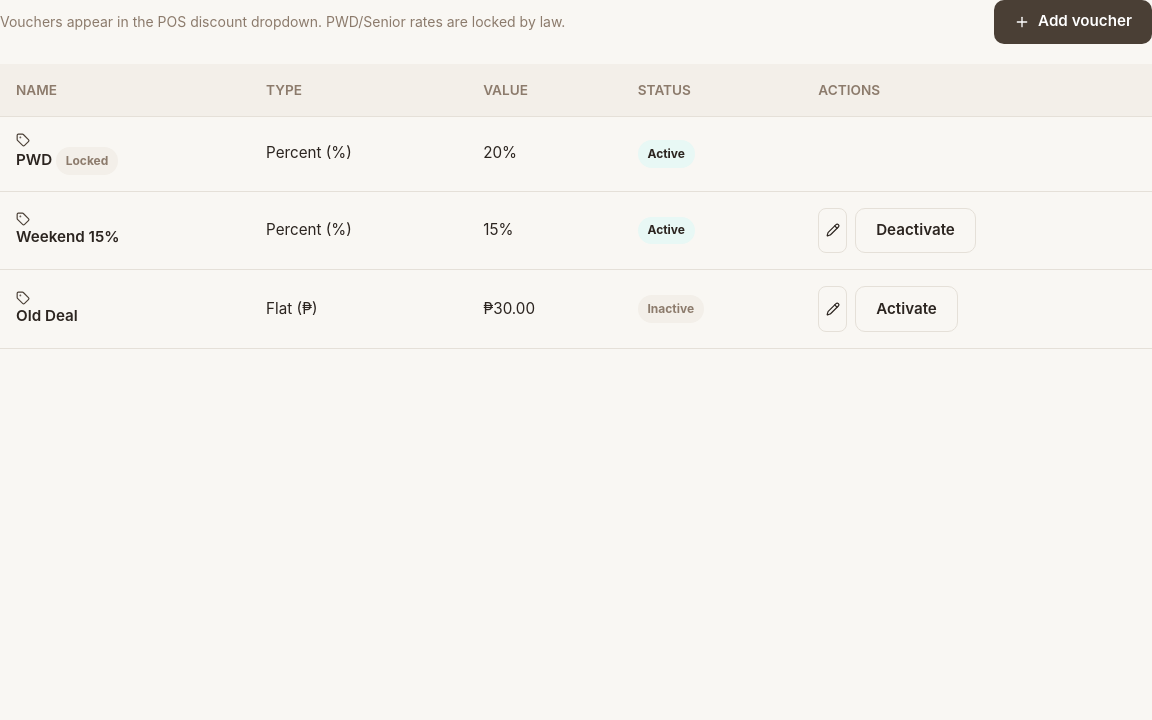
Test: DiscountManager › should surface validation errors from the service
The width and height of the screenshot is (1152, 720).
Click the button with test id "discount-add-btn": click(1073, 22) left=994, top=0, right=1151, bottom=44
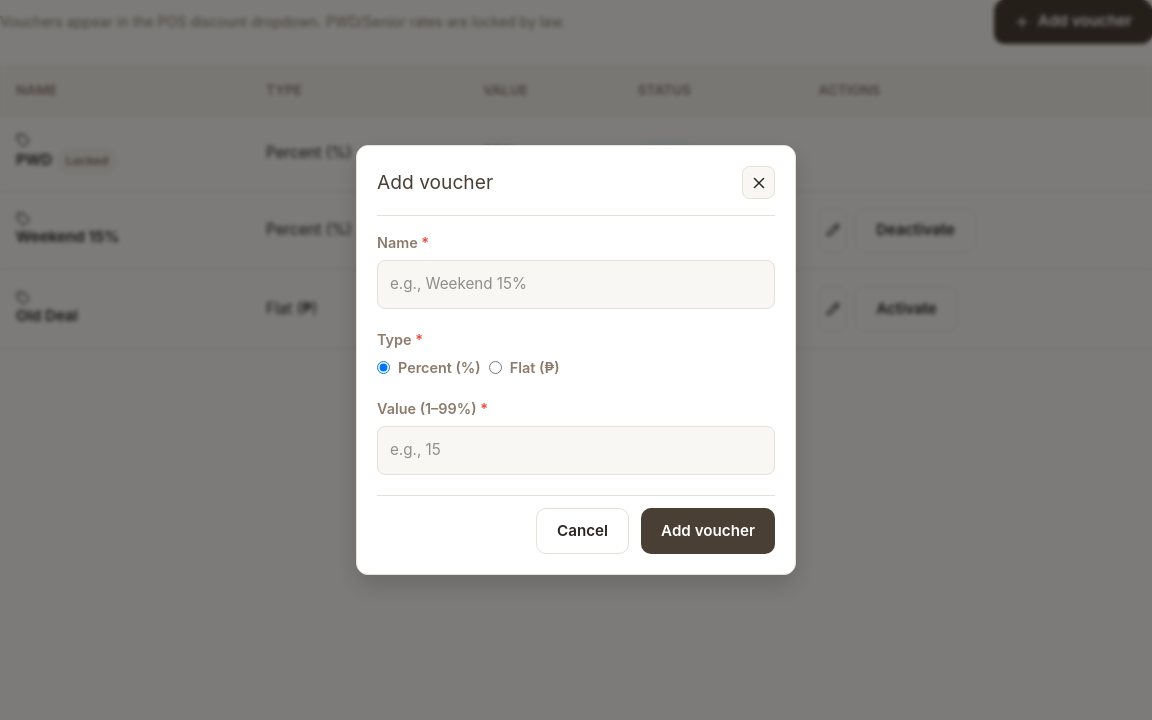
In the field with test id "discount-name-input": (576, 284) left=377, top=260, right=775, bottom=309, type "Bad Deal"
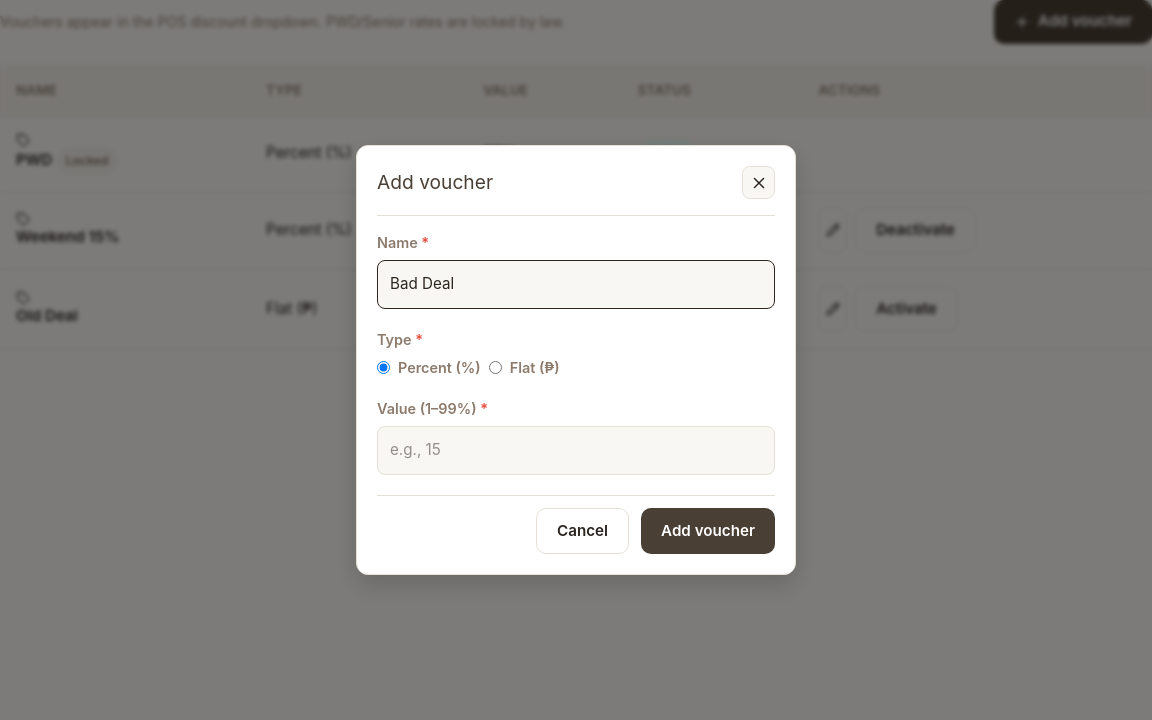
In the number field with test id "discount-value-input": (576, 451) left=377, top=426, right=775, bottom=475, type "150"
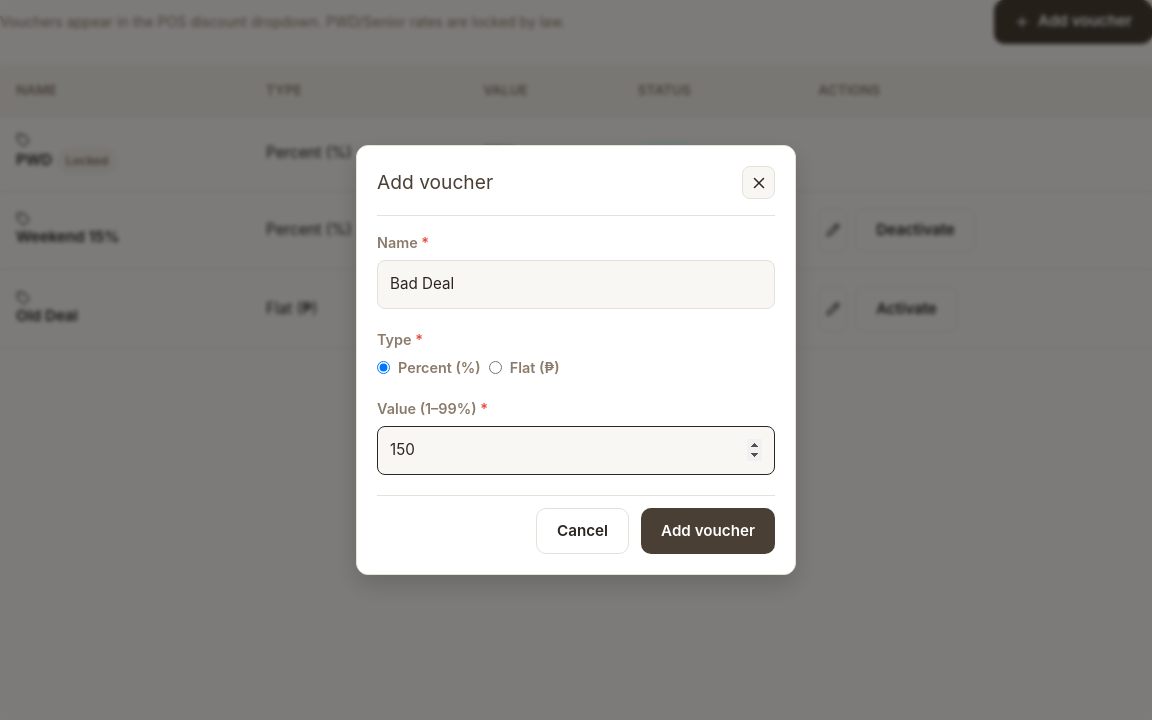
Click the button with test id "discount-save-btn": click(708, 531) left=641, top=508, right=775, bottom=554
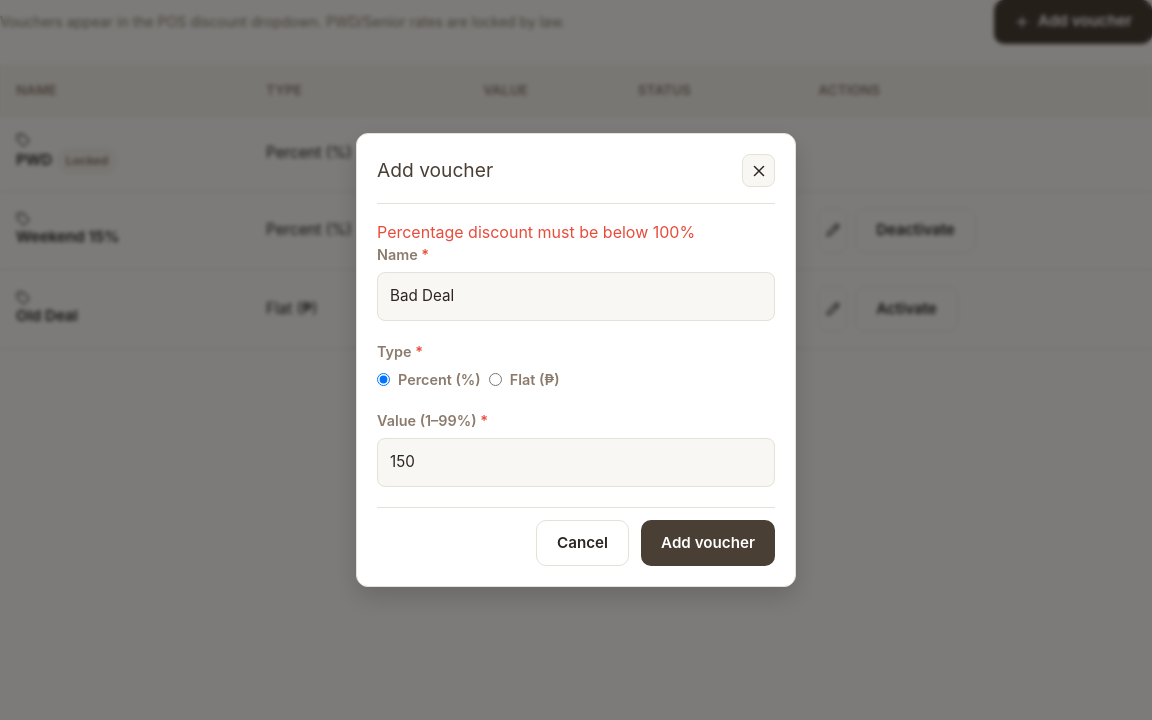
Expected: the text with test id "discount-form-error" shows "below 100%", left=377, top=222, right=695, bottom=242
